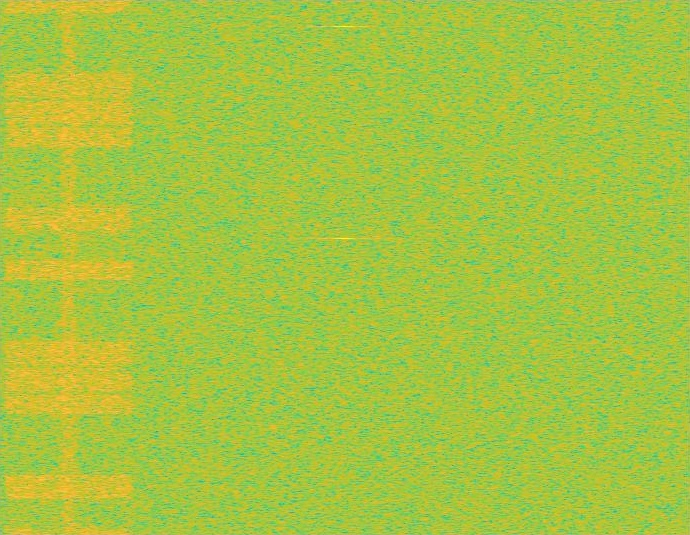DSSS: (60, 0, 78, 534)
LTE: (0, 0, 138, 534)
Radar: (337, 0, 351, 534)
